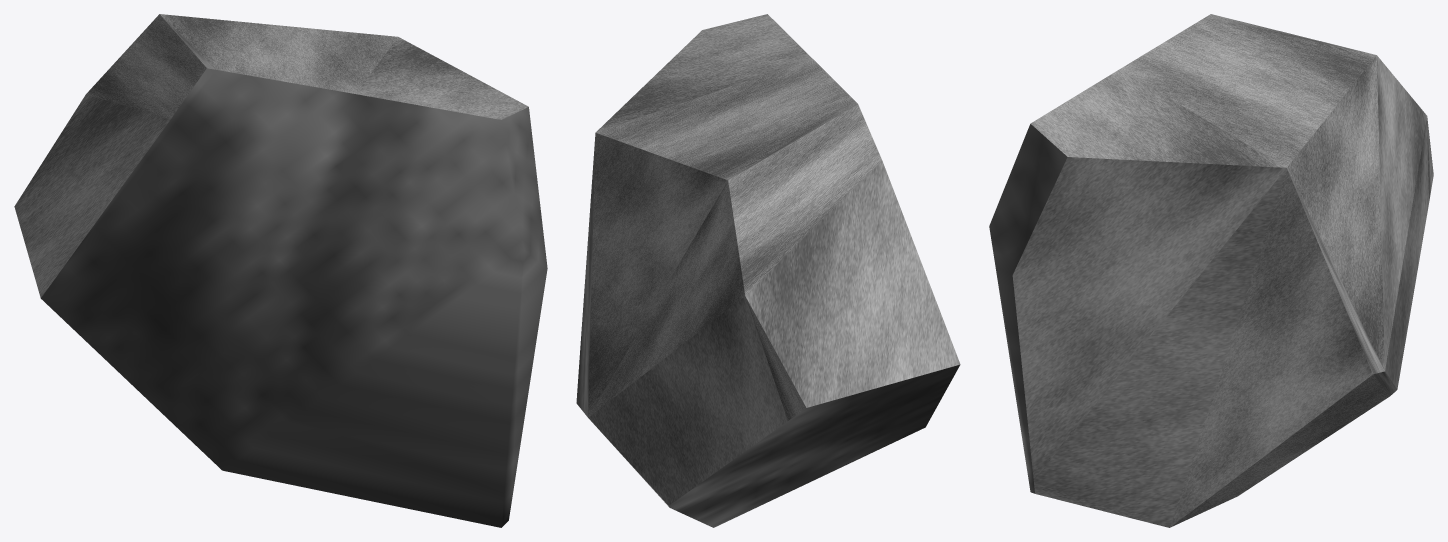
Rendered from tail_cell.fbx.
3 views of the same model, side by side, from view 1: azimuth 30°, elevation 25°; view 2: azimuth 150°, elevation 25°; view 3: azimuth 270°, elevation 25° (orthographic). The views are drawn at different scales.
Parts seen in each view (by area): view 1: tail_cell; view 2: tail_cell; view 3: tail_cell.
Boxes of the visible parts, x1,y1,x2,y2 form: tail_cell: (14, 14, 547, 527); tail_cell: (576, 14, 960, 527); tail_cell: (989, 14, 1433, 527).
Size of the model in its own units: 34.58 by 41.23 by 38.81.
